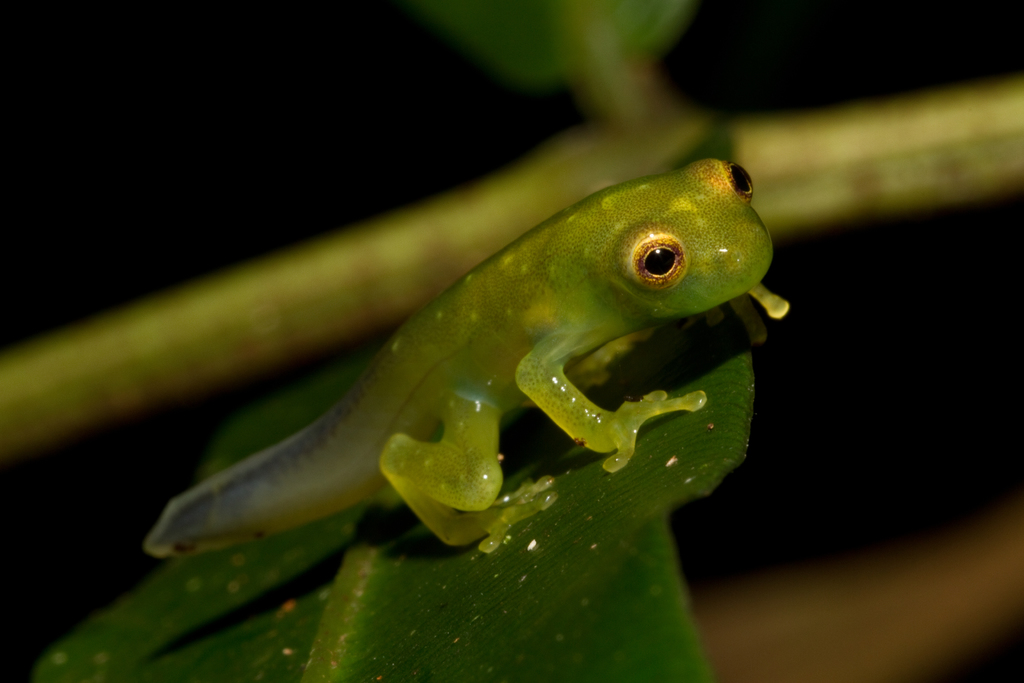Animal: (143, 158, 786, 553)
